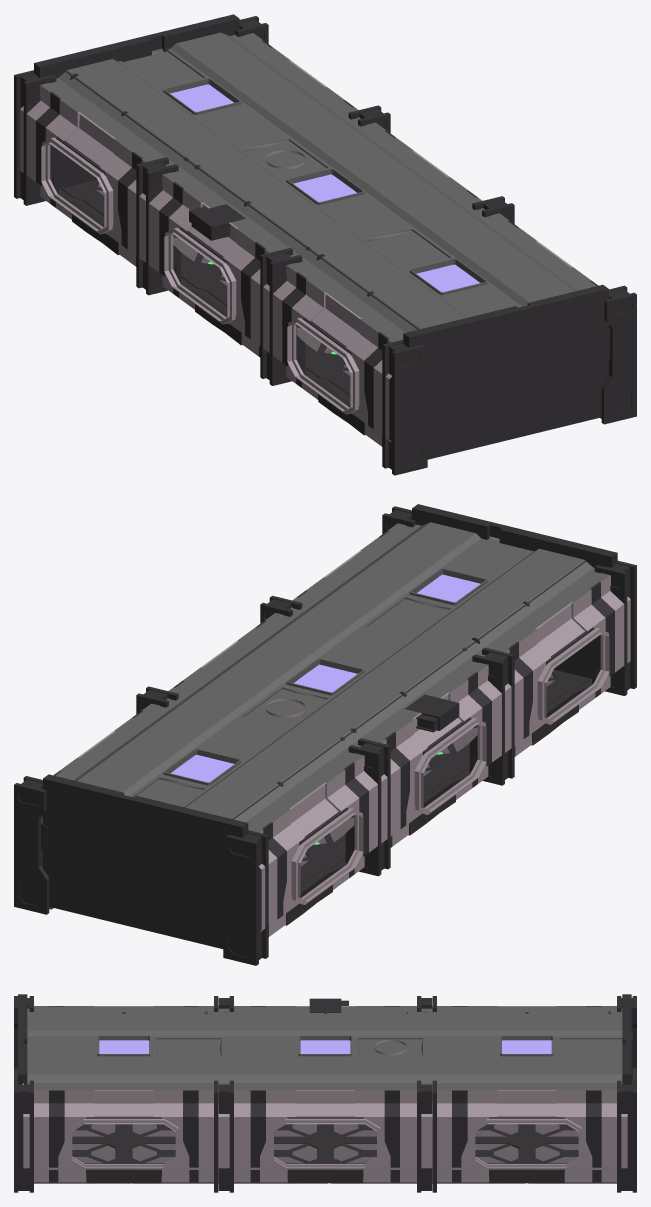
The model's file is spaceship_master-transformed.glb.
3 views of the same model, one above another, from view 1: azimuth 30°, elevation 25°; view 2: azimuth 150°, elevation 25°; view 3: azimuth 270°, elevation 25° (orthographic). The views are drawn at different scales.
Visible parts, largest first — view 1: Cube, Cube.006, Cube.002, Cube.004, Cube.007, wall base.001, wall base.002, wall base, wall supporter high, wall supporter high.002, wall supporter high.001, floor_base (+9 smaller); view 2: Cube, Cube.006, Cube.004, Cube.002, Cube.007, wall base.001, wall base.002, wall base, wall supporter high, wall supporter high.001, wall supporter high.002, floor_base (+9 smaller); view 3: Cube.006, Cube.004, Cube.002, wall base, wall base.001, wall base.002, Cube.007, wall supporter high.001, wall supporter high.002, wall supporter high, floor_rectangles_base.002, floor_rectangles_base.001 (+19 smaller).
Boxes of the visible parts, left/top/right/bottom form: Cube: left=34, top=14, right=608, bottom=459; Cube.006: left=163, top=120, right=484, bottom=256; Cube.002: left=40, top=32, right=360, bottom=166; Cube.004: left=286, top=210, right=596, bottom=342; Cube.007: left=14, top=16, right=636, bottom=475; wall base.001: left=266, top=240, right=572, bottom=446; wall base.002: left=20, top=60, right=326, bottom=266; wall base: left=143, top=150, right=449, bottom=356; wall supporter high: left=159, top=130, right=477, bottom=357; wall supporter high.002: left=36, top=40, right=354, bottom=266; wall supporter high.001: left=282, top=220, right=598, bottom=446; floor_base: left=180, top=267, right=422, bottom=366; Cube: left=43, top=504, right=617, bottom=948; Cube.006: left=166, top=610, right=488, bottom=747; Cube.004: left=290, top=522, right=610, bottom=656; Cube.002: left=55, top=700, right=364, bottom=832; Cube.007: left=14, top=506, right=636, bottom=965; wall base.001: left=324, top=551, right=630, bottom=756; wall base.002: left=78, top=731, right=384, bottom=936; wall base: left=201, top=641, right=507, bottom=846; wall supporter high: left=173, top=620, right=491, bottom=847; wall supporter high.001: left=297, top=530, right=614, bottom=756; wall supporter high.002: left=53, top=710, right=368, bottom=936; floor_base: left=227, top=757, right=470, bottom=856; Cube.006: left=224, top=1006, right=426, bottom=1090; Cube.004: left=27, top=1006, right=224, bottom=1090; Cube.002: left=426, top=1006, right=622, bottom=1090; wall base: left=224, top=1006, right=426, bottom=1182; wall base.001: left=23, top=1006, right=224, bottom=1182; wall base.002: left=426, top=1006, right=627, bottom=1182; Cube.007: left=14, top=996, right=636, bottom=1192; wall supporter high.001: left=49, top=1006, right=198, bottom=1182; wall supporter high.002: left=452, top=1006, right=601, bottom=1182; wall supporter high: left=250, top=1006, right=399, bottom=1182; floor_rectangles_base.002: left=475, top=1124, right=578, bottom=1163; floor_rectangles_base.001: left=72, top=1124, right=175, bottom=1163.
Size of the model in its own units: 12.17 by 5.94 by 30.93.
